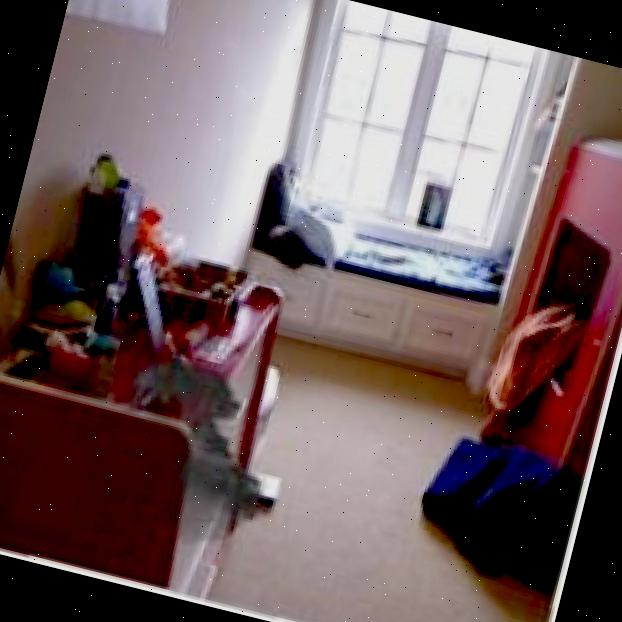smoke: (0, 303, 307, 608)
